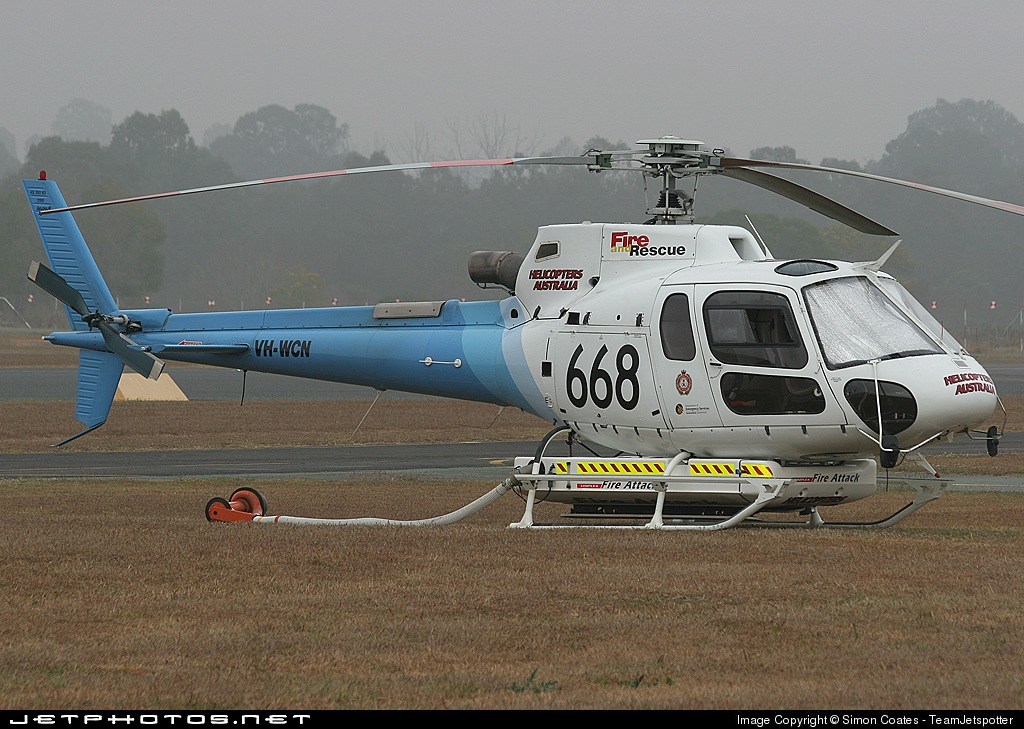number: (561, 341, 642, 414), (253, 337, 315, 358)
